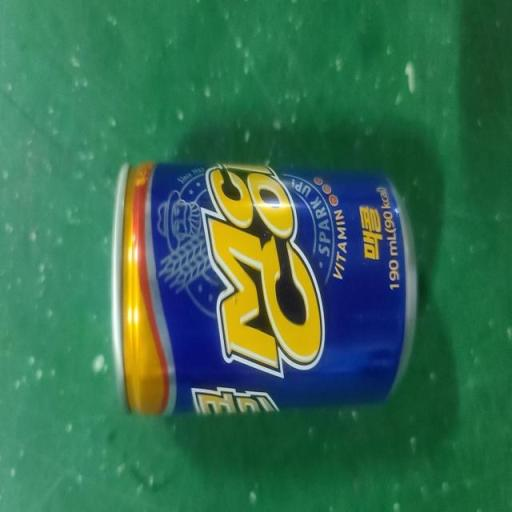metal: (92, 128, 438, 498)
